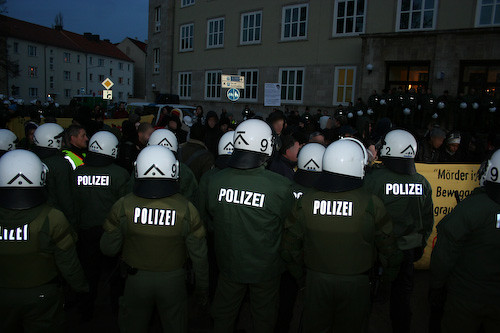building: (153, 1, 500, 107), (1, 26, 141, 102)
policeman: (205, 119, 297, 333), (111, 148, 207, 333), (301, 134, 385, 333), (1, 158, 73, 333), (372, 126, 425, 333), (75, 129, 128, 217)
